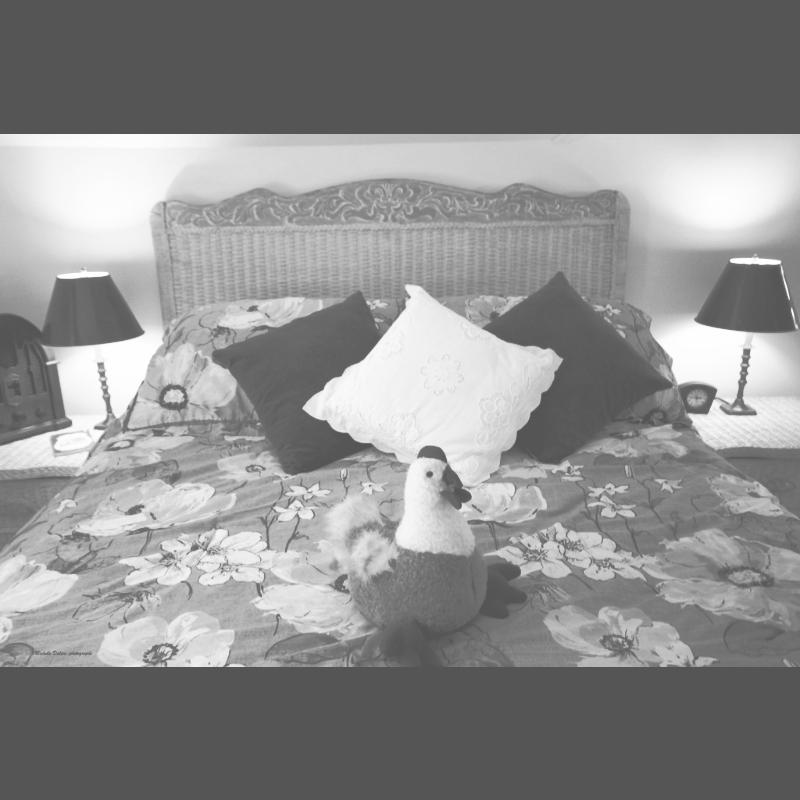pillow: (304, 284, 557, 486), (479, 268, 675, 466), (117, 299, 401, 429), (436, 292, 692, 424), (210, 286, 382, 478)
